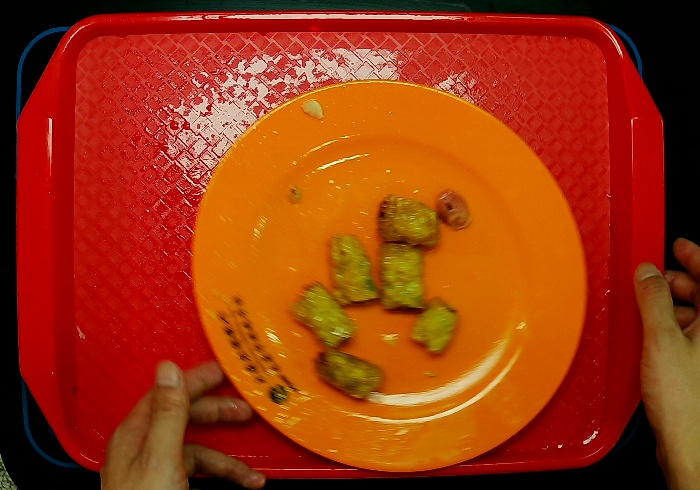YKMZ-Ju_Se_Mian_Pan: (180, 68, 594, 480)
